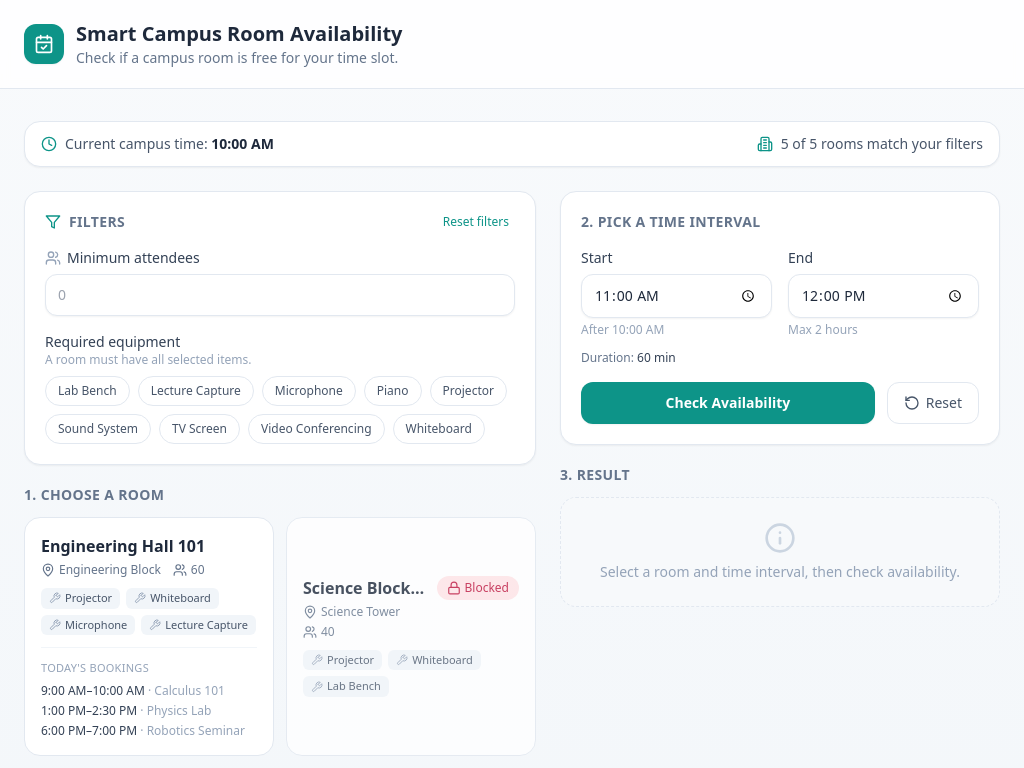
Test case: Integration: select room → check availability → result › Integration: filter with no matches → empty state with Reset button
This screenshot has width=1024, height=768.
Type "999" into the number field labelled "Minimum attendees". click: (280, 295)
box: [45,274,515,316]
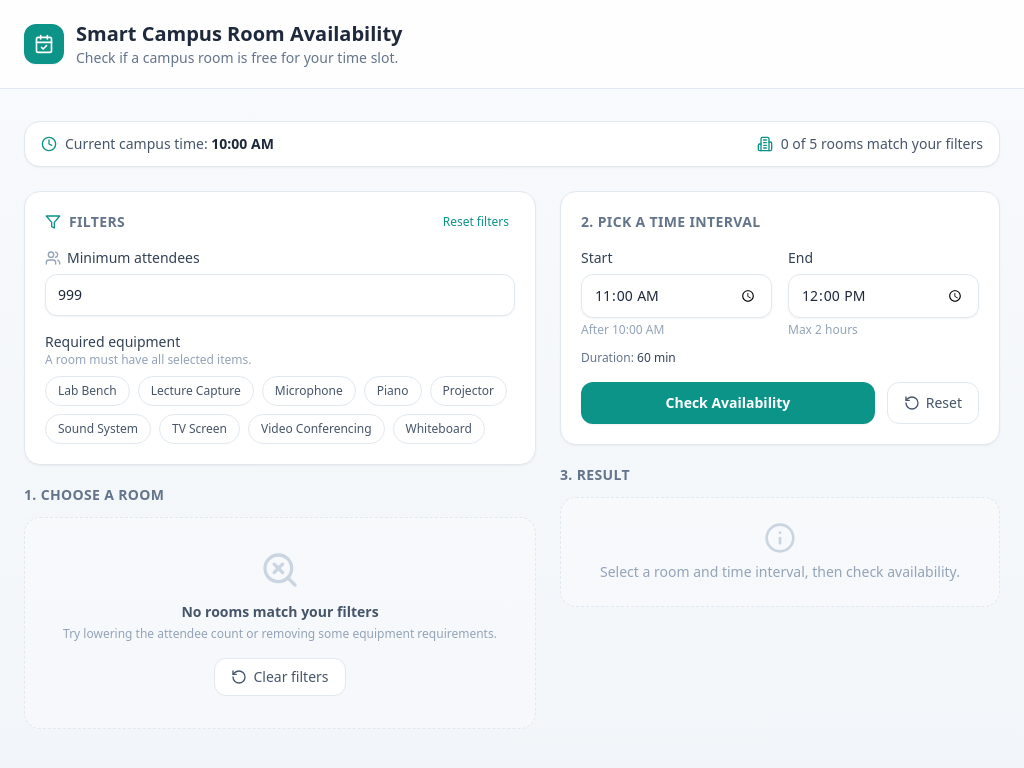
Expected: the button "Reset filters" is shown, [437,212,515,232]
Expected: the text "No rooms match your filters" is shown, [181,602,379,621]
